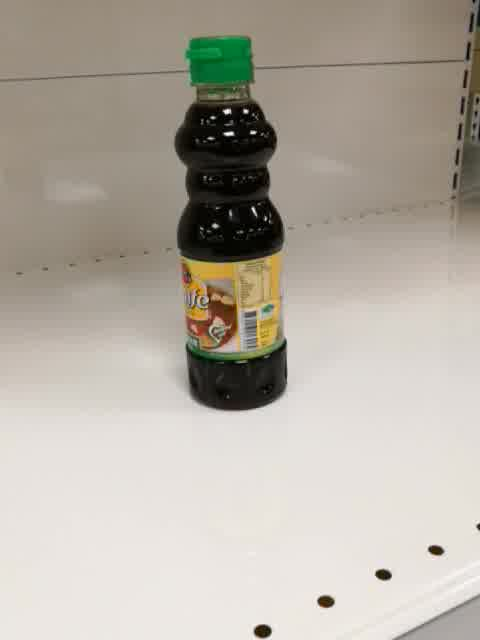cookingoil: (174, 31, 289, 412)
